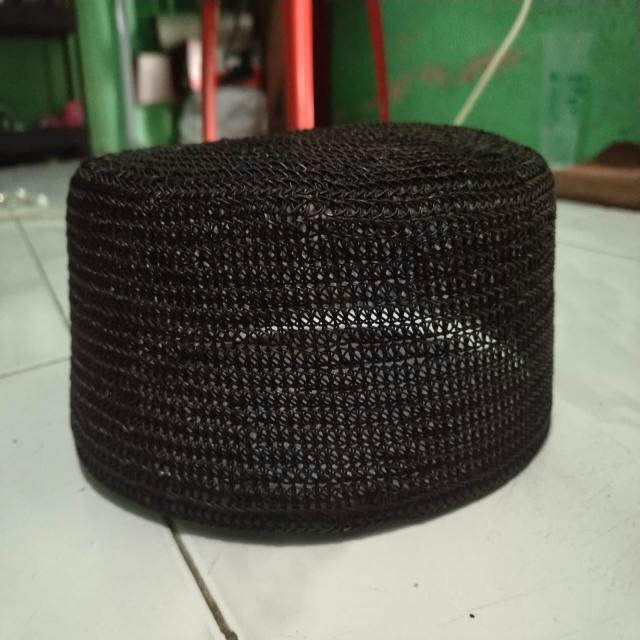kopiah: (43, 94, 582, 550)
